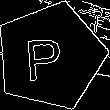P_N: (30, 30, 71, 83)
